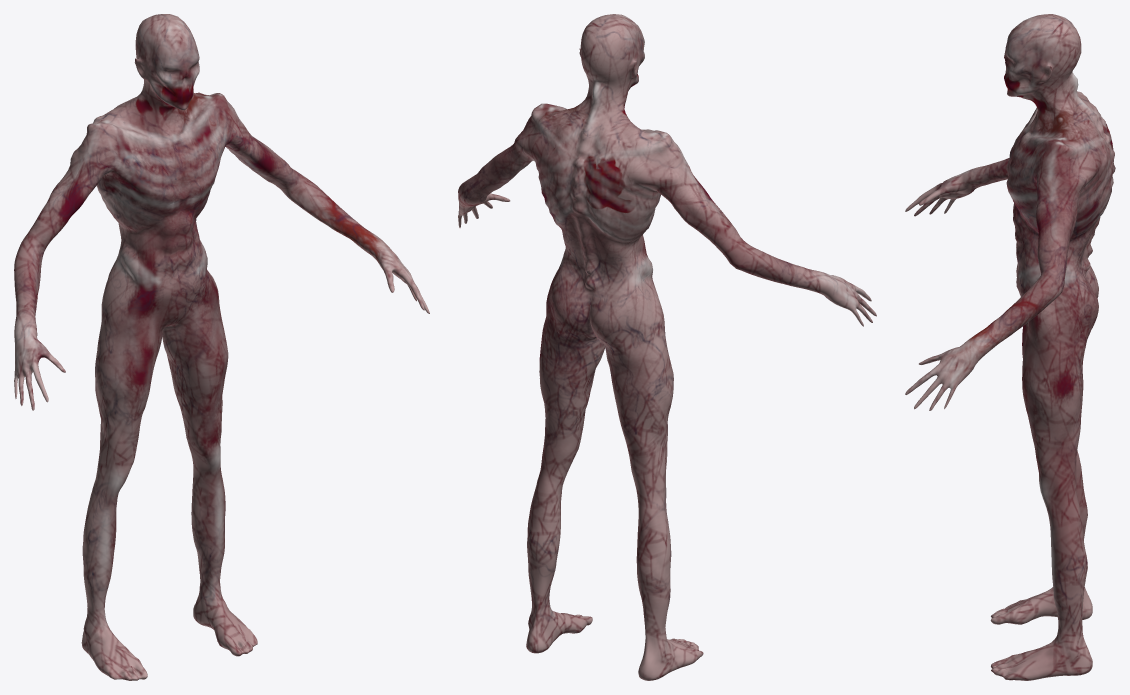
Rendered from zombie.glb.
The picture shows the model from 3 angles, left to right: view 1: azimuth 30°, elevation 25°; view 2: azimuth 150°, elevation 25°; view 3: azimuth 270°, elevation 25°; orthographic projection.
Parts seen in each view (by area): view 1: coekMesh; view 2: coekMesh; view 3: coekMesh.
Boxes of the visible parts, x1,y1,x2,y2 form: coekMesh: (14,14,429,680); coekMesh: (458,14,876,680); coekMesh: (905,14,1115,680).
Bounding box in the file's own units: 1.17 × 1.74 × 0.5284.
Materials: 1 (1 with a texture image).
